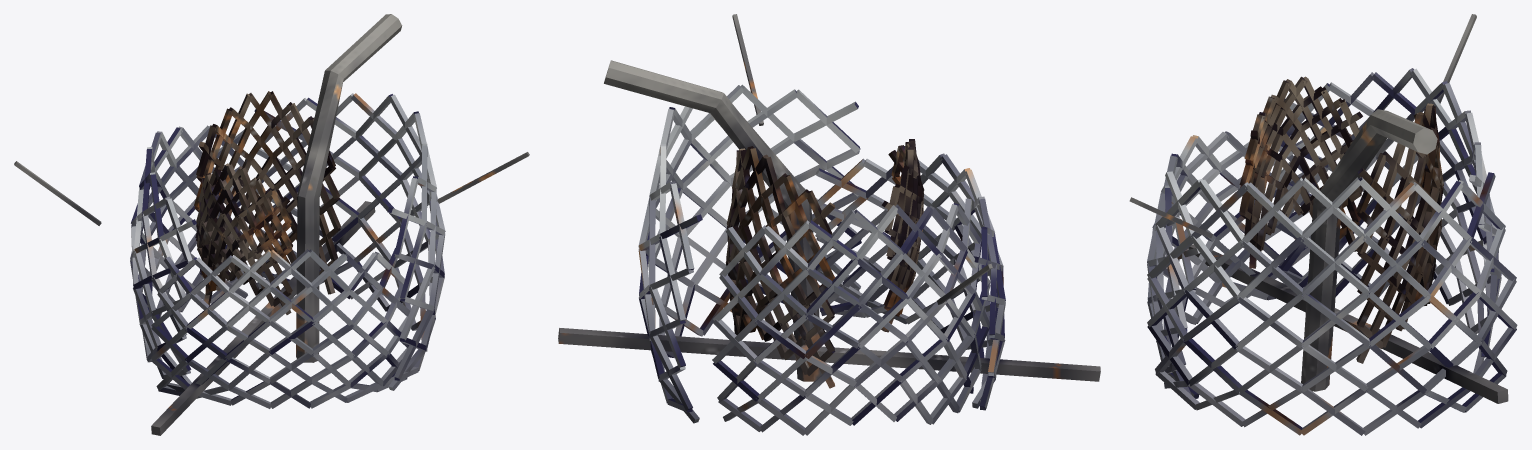
File: BushChainLink.glb
3 renders of one model, left to right at view 1: azimuth 30°, elevation 25°; view 2: azimuth 150°, elevation 25°; view 3: azimuth 270°, elevation 25°, orthographic. The views are drawn at different scales.
Visible parts, largest first — view 1: Mesh, RustMesh, Post; view 2: Mesh, RustMesh, Post; view 3: Mesh, RustMesh, Post.
Part boxes in pixels (x1,y1,x2,y2): Mesh: (130,93,445,408); RustMesh: (194,91,341,314); Post: (14,14,529,435); Mesh: (638,84,1005,435); RustMesh: (725,139,924,388); Post: (558,14,1100,381); Mesh: (1147,68,1517,435); RustMesh: (1239,76,1443,363); Post: (1129,14,1508,403).
Size of the model in its own units: 3.31 by 2.38 by 2.52.
Materials: 3 (3 with a texture image).
